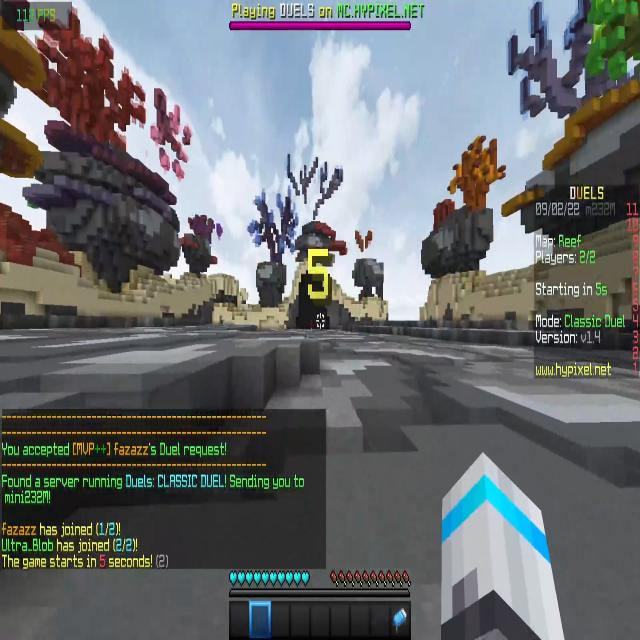Player: (308, 318, 314, 333)
